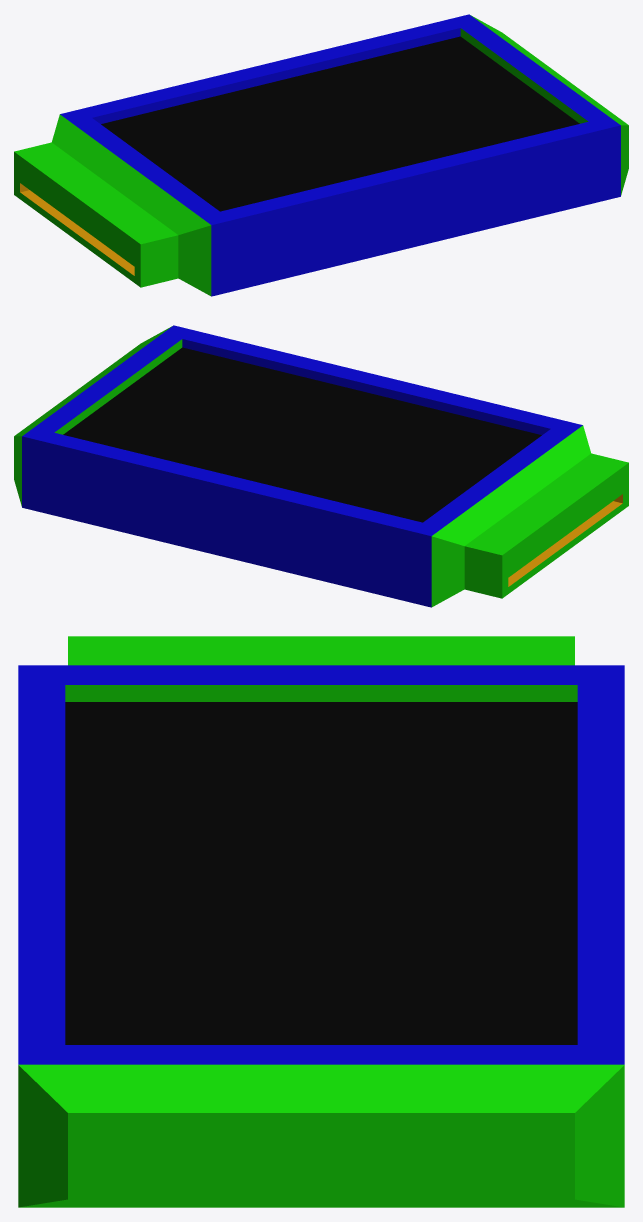
Rendered from card.fbx.
3 views of the same model, one above another, from view 1: azimuth 30°, elevation 25°; view 2: azimuth 150°, elevation 25°; view 3: azimuth 270°, elevation 25° (orthographic). The views are drawn at different scales.
Visible parts, largest first — view 1: Mesh.001; view 2: Mesh.001; view 3: Mesh.001.
Part boxes in pixels (box(x1,y1,x2,y2)): Mesh.001: box(14, 14, 628, 296); Mesh.001: box(14, 325, 628, 607); Mesh.001: box(18, 636, 624, 1207).
Bounding box in the file's own units: 25.94 × 3.63 × 13.95.
